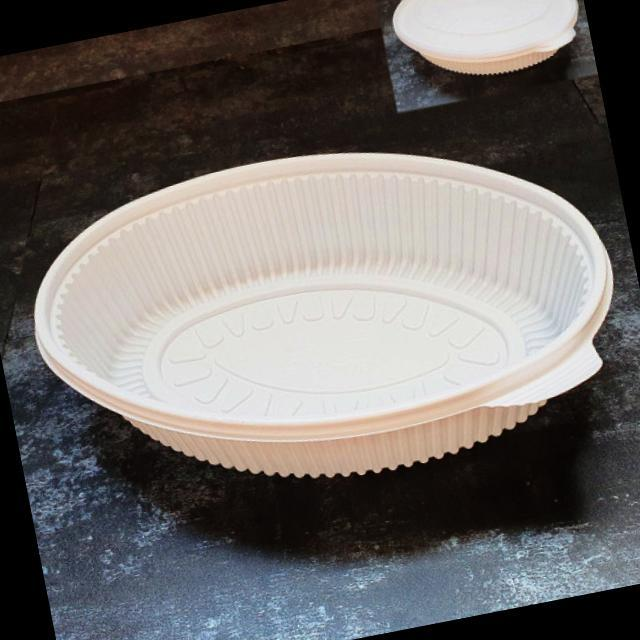bottle: (0, 147, 640, 488)
